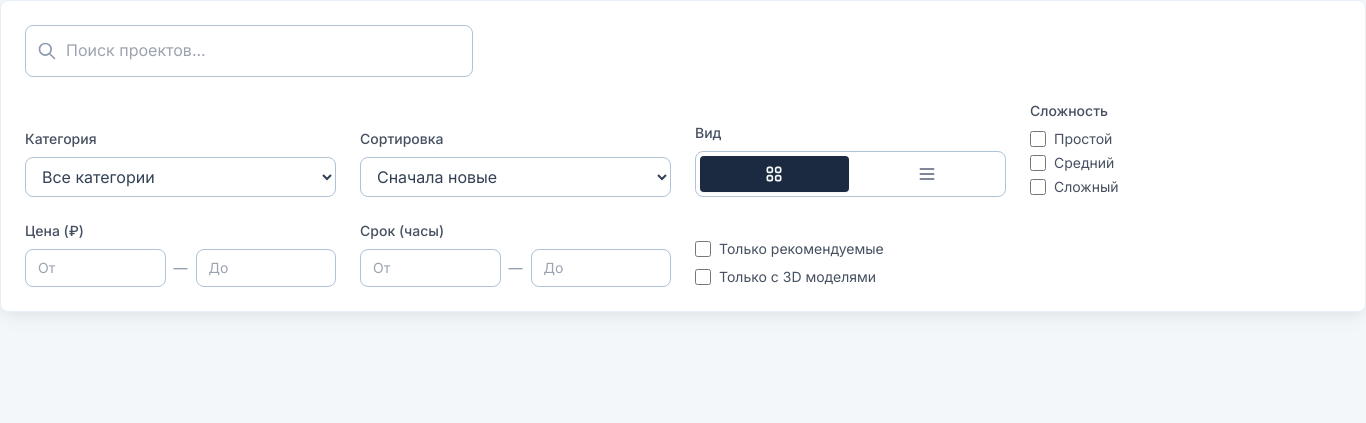
Test: GalleryFilter › shows clear search button when search has value
The image size is (1366, 423).
In the field with class "search-input": (249, 51) [25, 25, 473, 77], type "test"
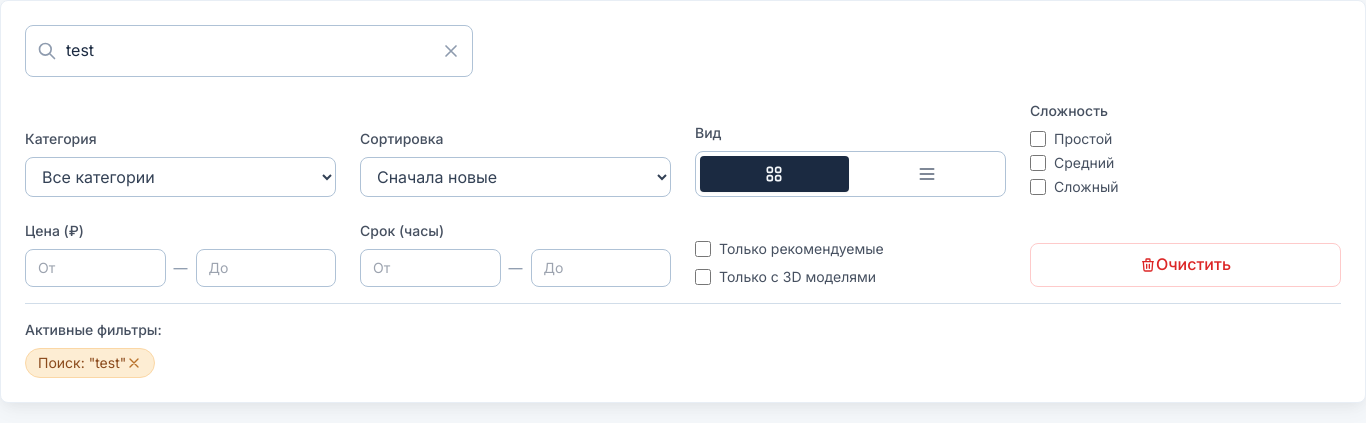
Check: the button with class "clear-search" is shown, box [441, 41, 461, 61]
